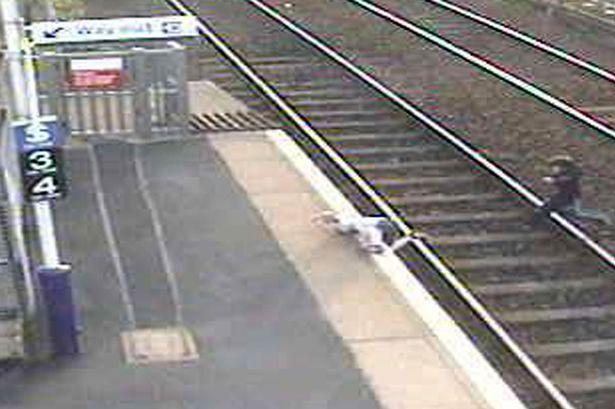person: (515, 144, 615, 249), (308, 201, 416, 266)
